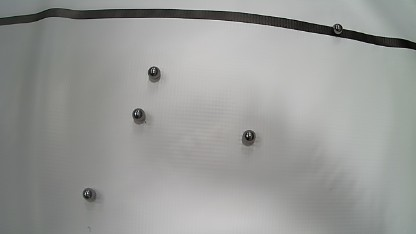ironball: (242, 130, 256, 146), (147, 66, 160, 82), (132, 108, 145, 124), (82, 187, 95, 202), (332, 23, 342, 34)
